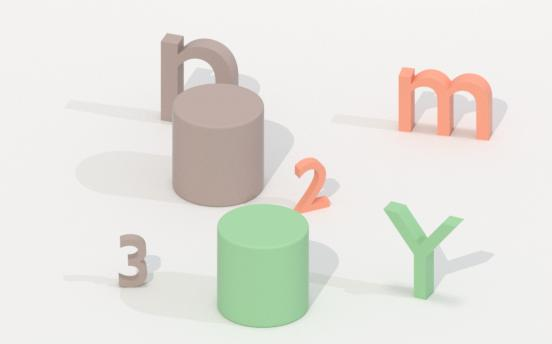2: (292, 155, 336, 217)
3: (115, 232, 151, 293)
Y-hoa: (383, 199, 467, 307)
m: (396, 62, 495, 143)
n: (154, 27, 254, 123)
tru: (170, 79, 269, 210), (214, 198, 312, 330)
